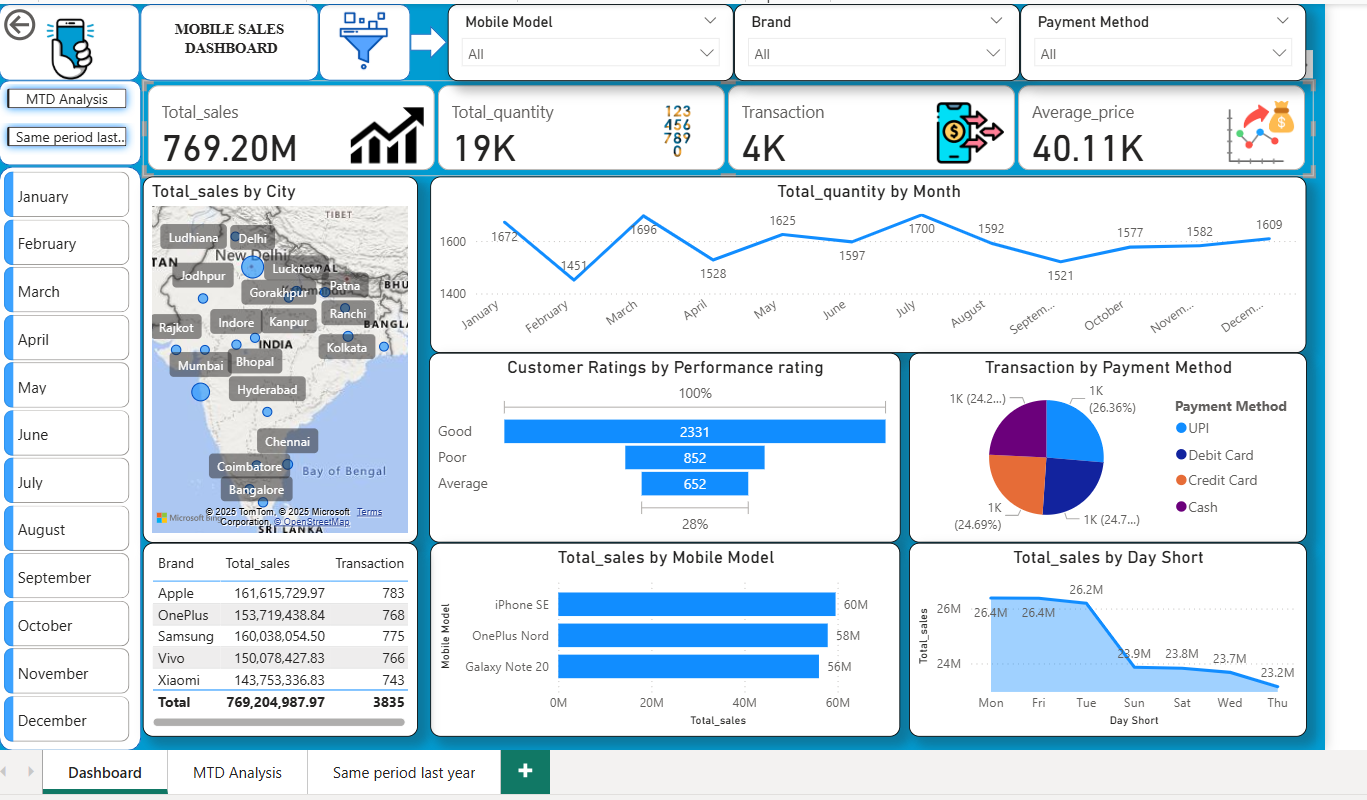

The dashboard page shown, as its layout file describes it:
{"tool":"powerbi","page":{"name":"Dashboard","canvas":[1280,720],"ordinal":0},"visuals":[{"type":"shape","box":[0,0,135.8,74.1],"z":0},{"type":"image","box":[24.7,0,89.2,86.4],"z":1000},{"type":"shape","box":[0,74.1,137.2,82.3],"z":2000},{"type":"shape","box":[0,156.4,137.2,564],"z":3000},{"type":"advancedSlicerVisual","fields":{"Values":["Calendar.Date.Variation.Date Hierarchy.Month"]},"box":[0,156.4,131.7,564],"z":4000},{"type":"cardVisual","fields":{"Data":["mobile sales data.Total_sales","mobile sales data.Total_quantity","mobile sales data.Transaction","mobile sales data.Average_price"]},"box":[138.7,73.6,1130.4,92.9],"z":5000},{"type":"slicer","fields":{"Values":["mobile sales data.Mobile Model"]},"box":[433,0,276.3,74.1],"z":6000},{"type":"slicer","fields":{"Values":["mobile sales data.Brand"]},"box":[709.3,0,276.3,74.1],"z":7000},{"type":"slicer","fields":{"Values":["mobile sales data.Payment Method"]},"box":[985.6,0,276.3,74.1],"z":8000},{"type":"shape","box":[309.1,0,88.3,74.1],"z":9000},{"type":"image","box":[300.5,2.8,104,66.9],"z":10000},{"type":"shape","box":[397.4,19.9,35.6,32.8],"z":11000},{"type":"shape","box":[136.7,0,172.3,74.1],"z":12000},{"type":"textbox","box":[151,10,146.7,52.7],"z":13000},{"type":"map","fields":{"Category":["mobile sales data.City"],"Size":["mobile sales data.Total_sales"]},"box":[138.7,166.5,265.4,353.5],"z":14000},{"type":"lineChart","fields":{"Y":["mobile sales data.Total_quantity"],"Category":["Calendar.Date.Variation.Date Hierarchy.Month"]},"box":[416.2,166.5,845.7,170.1],"z":15000},{"type":"funnel","title":"Customer Ratings by Performance rating","fields":{"Y":["CountNonNull(mobile sales data.Customer Ratings)"],"Category":["mobile sales data.Performance rating"]},"box":[415,336.6,454.8,183.4],"z":16000},{"type":"pieChart","fields":{"Y":["mobile sales data.Transaction"],"Category":["mobile sales data.Payment Method"]},"box":[878.3,336.6,383.6,183.4],"z":17000},{"type":"clusteredBarChart","fields":{"Y":["mobile sales data.Total_sales"],"Category":["mobile sales data.Mobile Model"]},"box":[416.2,520,453.6,187],"z":18000},{"type":"areaChart","fields":{"Y":["mobile sales data.Total_sales"],"Category":["Calendar.Day Short"]},"box":[878.3,520,383.6,187],"z":19000},{"type":"actionButton","box":[0,0,100,40],"z":20000},{"type":"tableEx","fields":{"Values":["mobile sales data.Brand","mobile sales data.Total_sales","mobile sales data.Transaction"]},"box":[138.7,520,265.4,187],"z":21000},{"type":"pageNavigator","box":[0,73.6,131.5,73.6],"z":21001}]}

Visuals, with their boxes on the page's 1280x720 design canvas (x1, y1, x2, y2). These are canvas units, not pixel positions in the 1367x800 screenshot, which may show the page scaled, cropped or inside an application window:
shape: rect(0, 0, 136, 74)
image: rect(25, 0, 114, 86)
shape: rect(0, 74, 137, 156)
shape: rect(0, 156, 137, 720)
advancedSlicerVisual - Calendar.Date.Variation.Date Hierarchy.Month: rect(0, 156, 132, 720)
cardVisual - mobile sales data.Total_sales x mobile sales data.Total_quantity: rect(139, 74, 1269, 166)
slicer - mobile sales data.Mobile Model: rect(433, 0, 709, 74)
slicer - mobile sales data.Brand: rect(709, 0, 986, 74)
slicer - mobile sales data.Payment Method: rect(986, 0, 1262, 74)
shape: rect(309, 0, 397, 74)
image: rect(300, 3, 404, 70)
shape: rect(397, 20, 433, 53)
shape: rect(137, 0, 309, 74)
textbox: rect(151, 10, 298, 63)
map - mobile sales data.City x mobile sales data.Total_sales: rect(139, 166, 404, 520)
lineChart - mobile sales data.Total_quantity x Calendar.Date.Variation.Date Hierarchy.Month: rect(416, 166, 1262, 337)
"Customer Ratings by Performance rating" funnel: rect(415, 337, 870, 520)
pieChart - mobile sales data.Transaction x mobile sales data.Payment Method: rect(878, 337, 1262, 520)
clusteredBarChart - mobile sales data.Total_sales x mobile sales data.Mobile Model: rect(416, 520, 870, 707)
areaChart - mobile sales data.Total_sales x Calendar.Day Short: rect(878, 520, 1262, 707)
actionButton: rect(0, 0, 100, 40)
tableEx - mobile sales data.Brand x mobile sales data.Total_sales: rect(139, 520, 404, 707)
pageNavigator: rect(0, 74, 132, 147)
